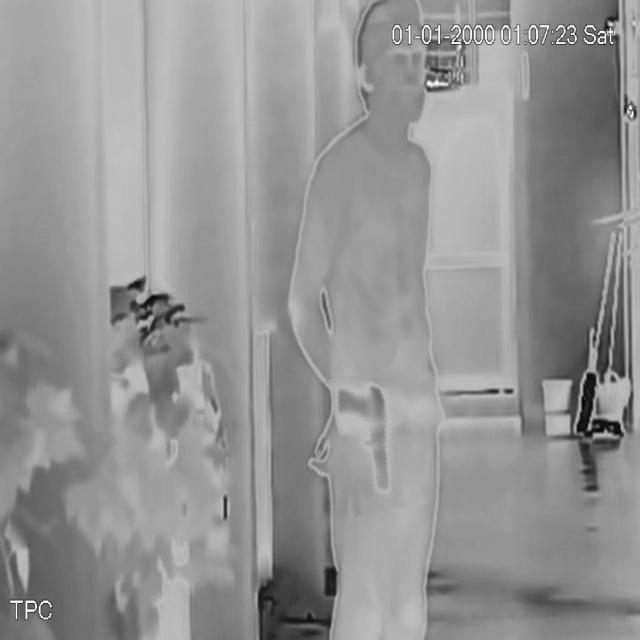Weapon: (335, 370, 419, 514)
